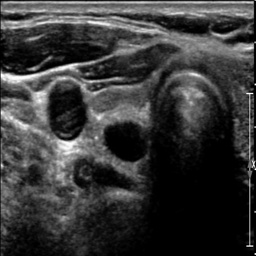mass: (103, 119, 147, 162)
